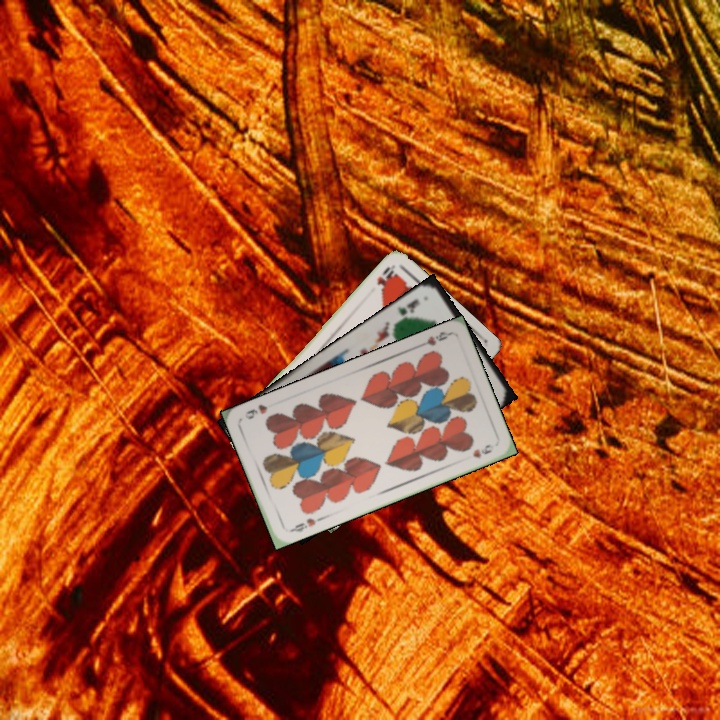GK: (394, 295, 422, 324)
H9: (413, 327, 452, 350), (285, 514, 324, 535)
HO: (373, 262, 399, 293)
